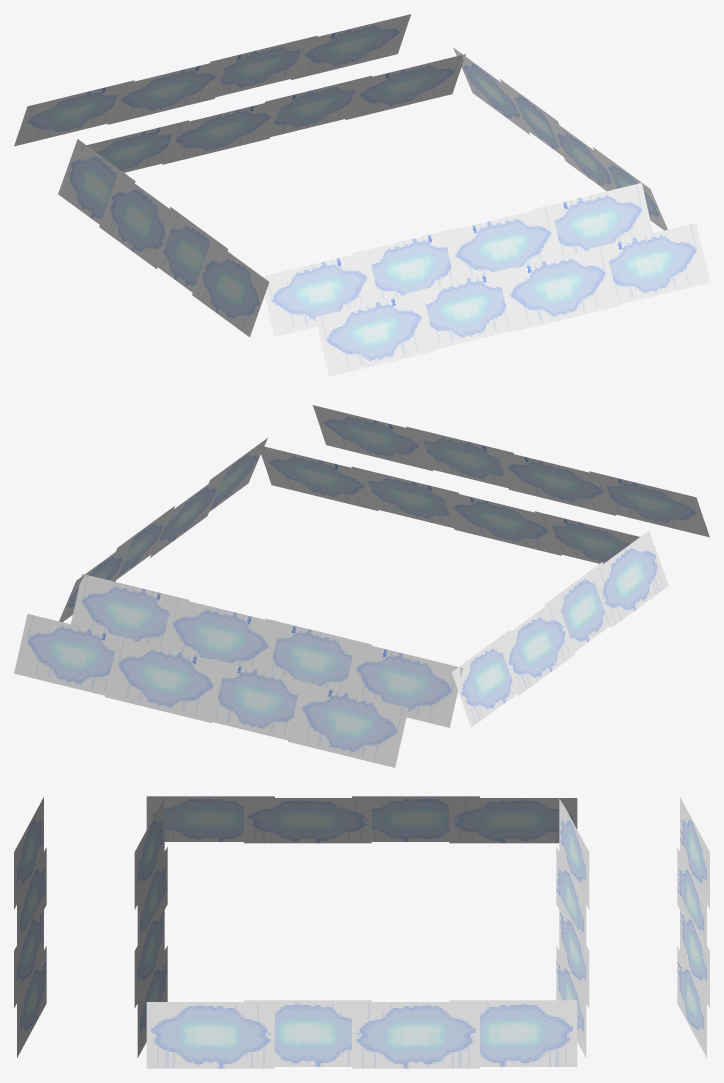
File: st_071_light.fbx
3 views of the same model, one above another, from view 1: azimuth 30°, elevation 25°; view 2: azimuth 150°, elevation 25°; view 3: azimuth 270°, elevation 25° (orthographic). The views are drawn at different scales.
Parts seen in each view (by area): view 1: st_071_Light; view 2: st_071_Light; view 3: st_071_Light.
Boxes of the visible parts, x1=… form: st_071_Light: x1=14, y1=14, x2=709, y2=376; st_071_Light: x1=14, y1=405, x2=709, y2=767; st_071_Light: x1=14, y1=796, x2=709, y2=1068.
Bounding box in the file's own units: 151 × 17.46 × 196.
